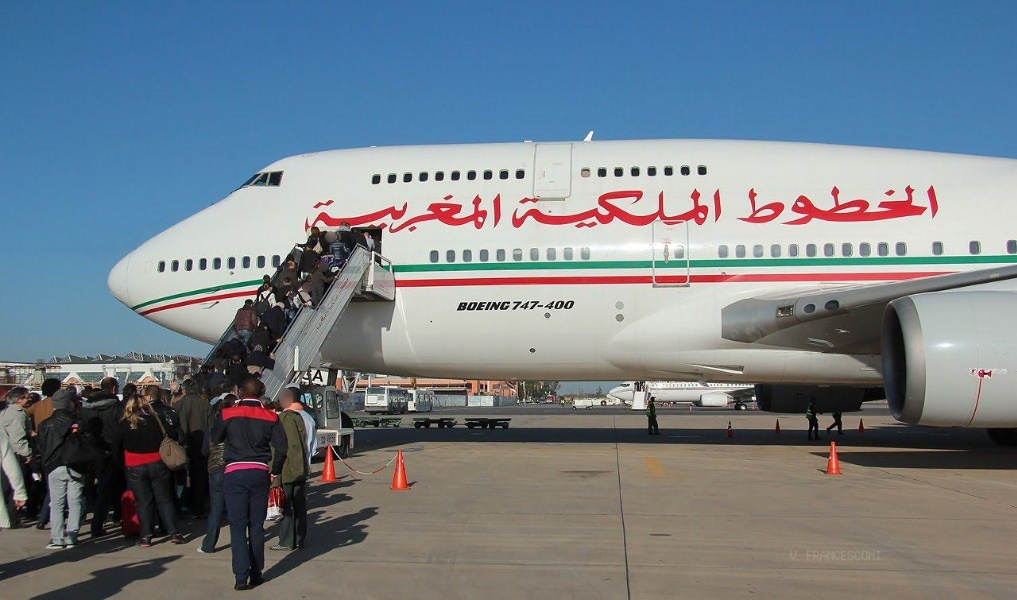text: (753, 182, 768, 227), (769, 182, 784, 227), (785, 182, 800, 227), (801, 182, 816, 227), (817, 182, 832, 227), (833, 182, 848, 227), (849, 182, 864, 227), (865, 182, 880, 227), (881, 182, 896, 227), (897, 182, 912, 227), (913, 182, 928, 227), (929, 182, 944, 227), (513, 188, 528, 233), (529, 188, 544, 233), (545, 188, 560, 233), (561, 188, 576, 233), (577, 188, 592, 233), (593, 188, 608, 233), (609, 188, 624, 233), (625, 188, 640, 233), (641, 188, 656, 233), (657, 188, 672, 233), (673, 188, 688, 233), (689, 188, 704, 233), (705, 188, 720, 233), (305, 192, 320, 235), (321, 192, 336, 235), (337, 192, 352, 235), (353, 192, 368, 235), (369, 192, 384, 235), (385, 192, 400, 235), (401, 192, 416, 235), (417, 192, 432, 235), (433, 192, 448, 235), (449, 192, 464, 235), (465, 192, 480, 235), (481, 192, 496, 235), (739, 182, 752, 227), (497, 192, 505, 235), (305, 368, 320, 387), (465, 301, 480, 312), (481, 301, 496, 312), (497, 301, 512, 312), (513, 300, 528, 310), (529, 300, 544, 310), (545, 300, 560, 310), (561, 300, 576, 310), (721, 188, 724, 233), (510, 188, 512, 233), (456, 301, 464, 312), (302, 192, 304, 235), (321, 368, 325, 387), (301, 368, 304, 387), (511, 300, 512, 310)
